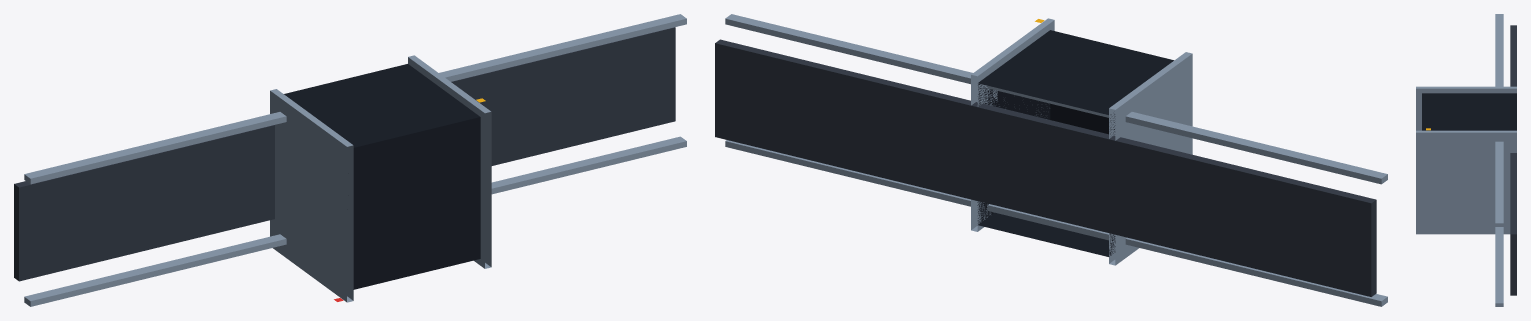
The model's file is conveyor_tunnel.obj.
The picture shows the model from 3 angles, left to right: view 1: azimuth 30°, elevation 25°; view 2: azimuth 150°, elevation 25°; view 3: azimuth 270°, elevation 25°; orthographic projection. The views are drawn at different scales.
Parts seen in each view (by area): view 1: conveyor_belt, tunnel_shell, tunnel_entry_bezel, guard_rail_right, guard_rail_left, tunnel_exit_bezel; view 2: conveyor_belt, tunnel_shell, guard_rail_right, tunnel_entry_bezel, guard_rail_left, tunnel_exit_bezel; view 3: tunnel_exit_bezel, tunnel_shell, conveyor_belt, guard_rail_right, tunnel_entry_bezel, guard_rail_left.
Boxes of the visible parts, bbox=[...] form: conveyor_belt: bbox=[14, 27, 675, 281]; tunnel_shell: bbox=[284, 64, 480, 289]; tunnel_entry_bezel: bbox=[270, 89, 353, 302]; guard_rail_right: bbox=[24, 14, 686, 184]; guard_rail_left: bbox=[24, 136, 686, 306]; tunnel_exit_bezel: bbox=[408, 55, 491, 268]; conveyor_belt: bbox=[715, 39, 1376, 296]; tunnel_shell: bbox=[977, 30, 1173, 256]; guard_rail_right: bbox=[725, 14, 1387, 184]; tunnel_entry_bezel: bbox=[1109, 52, 1192, 265]; guard_rail_left: bbox=[725, 140, 1387, 306]; tunnel_exit_bezel: bbox=[971, 18, 1054, 231]; tunnel_exit_bezel: bbox=[1416, 130, 1516, 234]; tunnel_shell: bbox=[1422, 93, 1516, 130]; conveyor_belt: bbox=[1510, 25, 1516, 295]; guard_rail_right: bbox=[1495, 14, 1503, 226]; tunnel_entry_bezel: bbox=[1416, 86, 1516, 130]; guard_rail_left: bbox=[1495, 227, 1503, 306].
Size of the model in its own units: 6 by 1.44 by 1.22.
